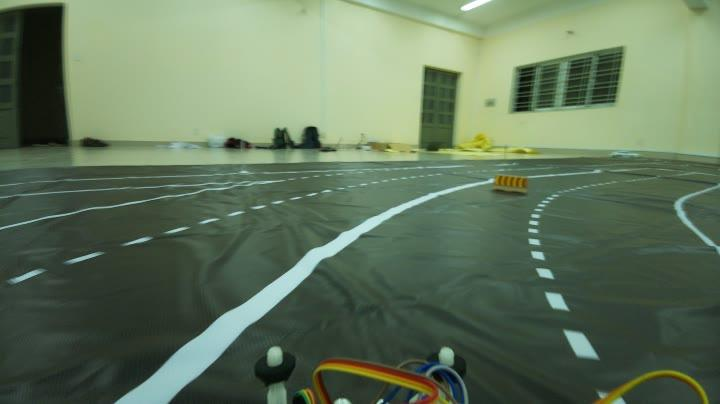roadblock: (486, 172, 529, 196)
